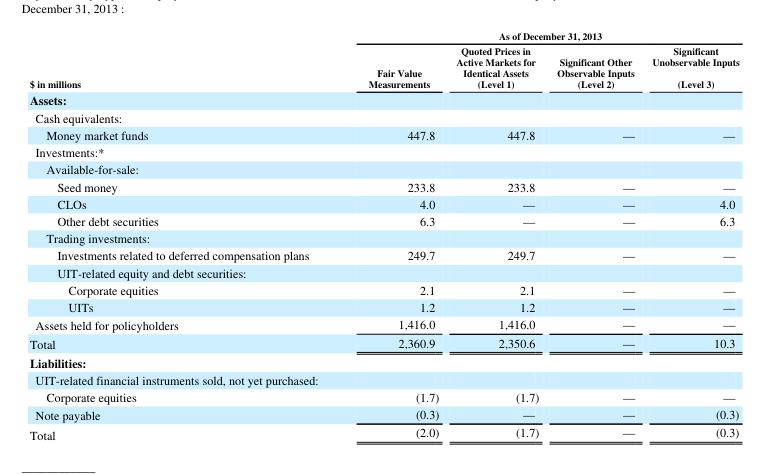table: (28, 28, 738, 442)
table column: (28, 28, 338, 442), (338, 28, 446, 442), (446, 28, 547, 442), (642, 28, 738, 442), (547, 28, 642, 442)
table column header: (28, 28, 738, 91)
table projected row header: (28, 142, 738, 160), (28, 228, 738, 246), (28, 352, 738, 370), (28, 91, 738, 108), (28, 108, 738, 125), (28, 160, 738, 177), (28, 263, 738, 280), (28, 370, 738, 387)
table row: (28, 43, 738, 91), (28, 332, 738, 352), (28, 422, 738, 442), (28, 142, 738, 160), (28, 228, 738, 246), (28, 297, 738, 315), (28, 352, 738, 370), (28, 404, 738, 422), (28, 91, 738, 108), (28, 108, 738, 125), (28, 125, 738, 142), (28, 160, 738, 177), (28, 177, 738, 194), (28, 194, 738, 211), (28, 211, 738, 228), (28, 246, 738, 263), (28, 263, 738, 280), (28, 280, 738, 297), (28, 315, 738, 332), (28, 370, 738, 387), (28, 387, 738, 404), (28, 28, 738, 43)
table spanning cell: (28, 28, 338, 91), (338, 28, 738, 43)
